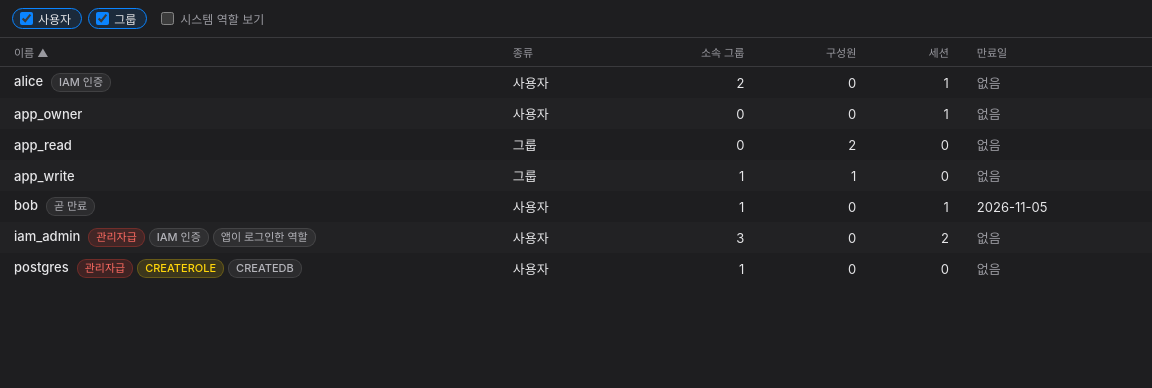
Test: lists users and groups by name, and keeps the system roles out until asked
expect the text "rds_superuser" is not shown: met
What coordinates should you click on to do the following:
click the checkbox labelled "시스템 역할 보기"
I would click on:
 (168, 18)
Its box is [161, 12, 174, 25].
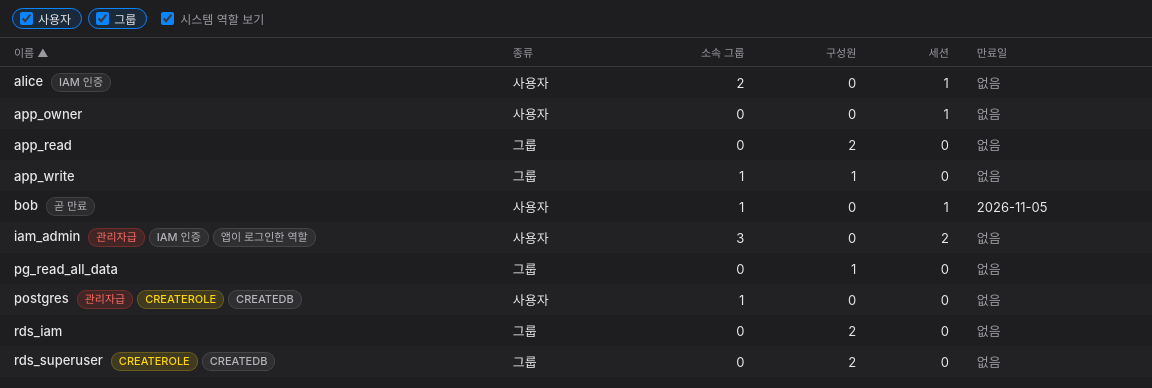
What coordinates should you click on to do the following:
click the checkbox labelled "시스템 역할 보기"
I would click on:
 (168, 18)
Its box is [161, 12, 174, 25].
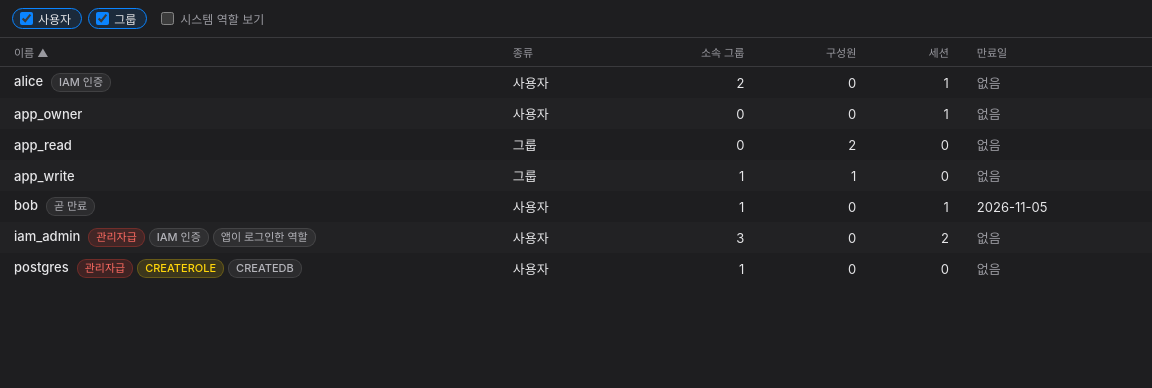
expect the text "rds_superuser" is gone: met
